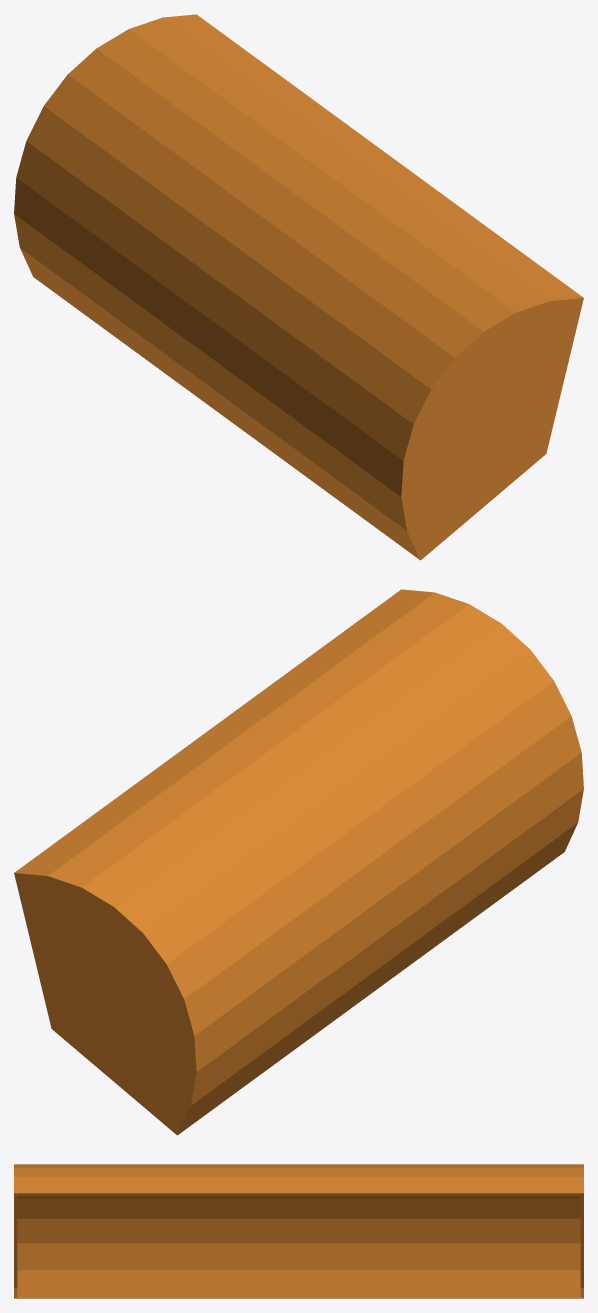
Rendered from chair_8pack_hood_up.obj.
The picture shows the model from 3 angles, top to bottom: view 1: azimuth 30°, elevation 25°; view 2: azimuth 150°, elevation 25°; view 3: azimuth 270°, elevation 25°; orthographic projection. The views are drawn at different scales.
Bounding box in the file's own units: 1.36 × 1.62 × 4.99.
